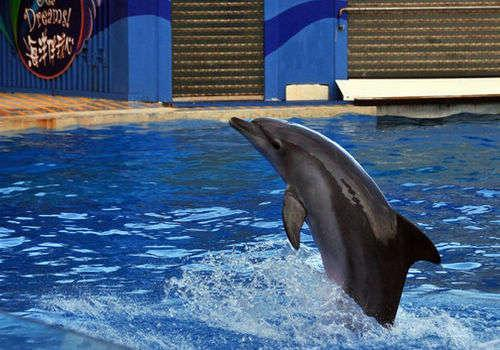fish: (224, 112, 444, 334)
